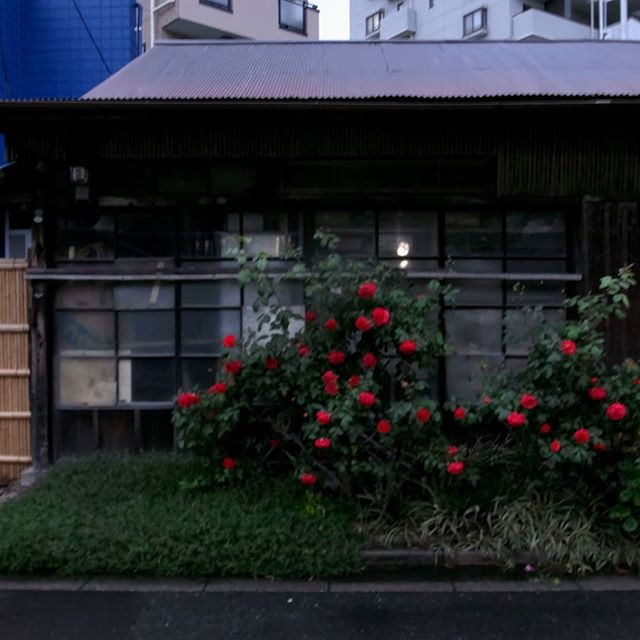building: (41, 44, 640, 456), (350, 1, 640, 51), (144, 1, 315, 41)
flowers: (186, 275, 640, 534)
